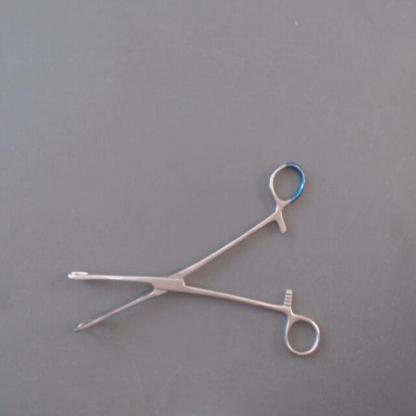Sponge Forceps: (60, 156, 329, 366)
